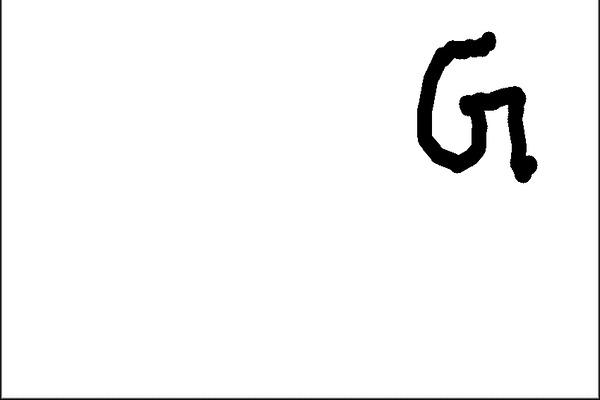G: (409, 27, 539, 188)
